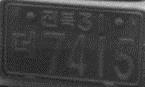1: (95, 34, 107, 82), (96, 12, 106, 34)
3: (77, 11, 91, 32)
4: (68, 33, 89, 77)
5: (113, 36, 136, 80)
7: (42, 31, 66, 75)
더: (11, 28, 38, 62)
전북_O: (41, 9, 75, 31)
